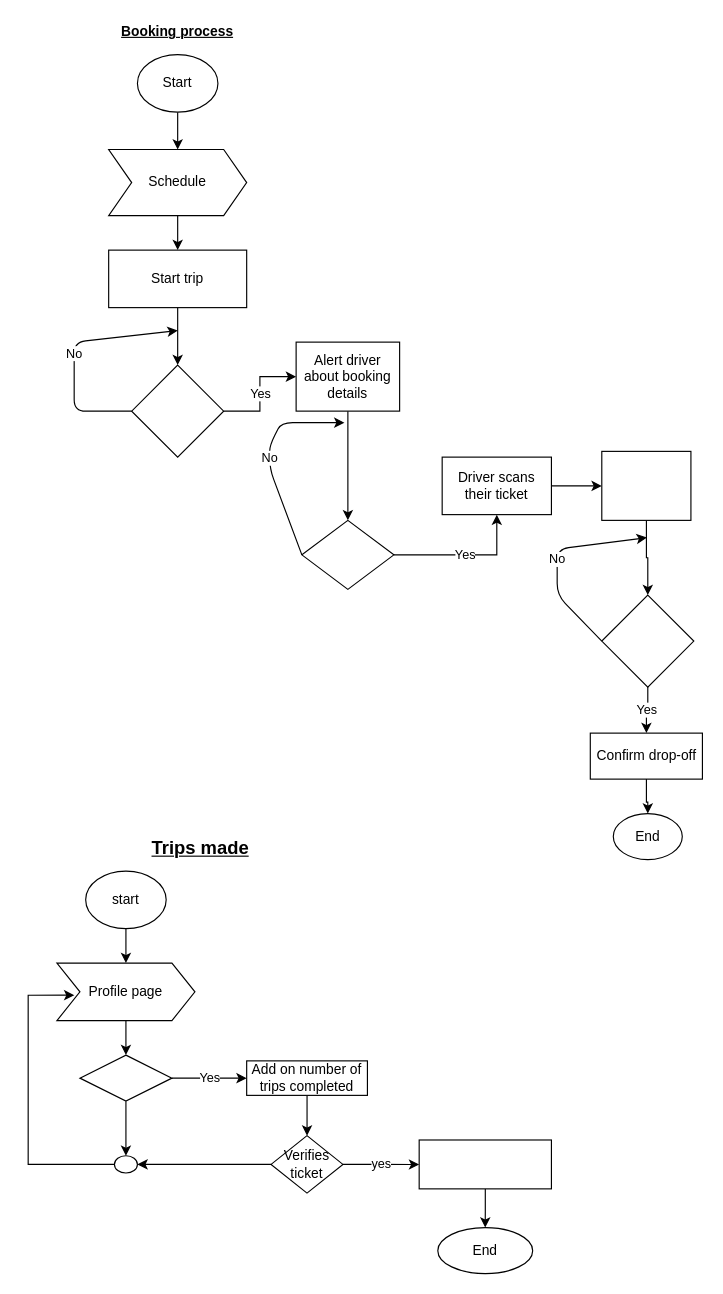
Some shapes in this 723 by 1294 pixel diagram are drawn without their labels. Here are the shapes that lost their labels. From the top down, the box of each, then its label:
(131, 364, 224, 457): Booking
(601, 450, 691, 520): Add to driver statistics board
(301, 519, 394, 589): onboard
(601, 594, 694, 687): Drop-off
(79, 1054, 172, 1101): Ends trip
(418, 1139, 551, 1189): Add on statisctics (Earning & n0 of passengers carried)
